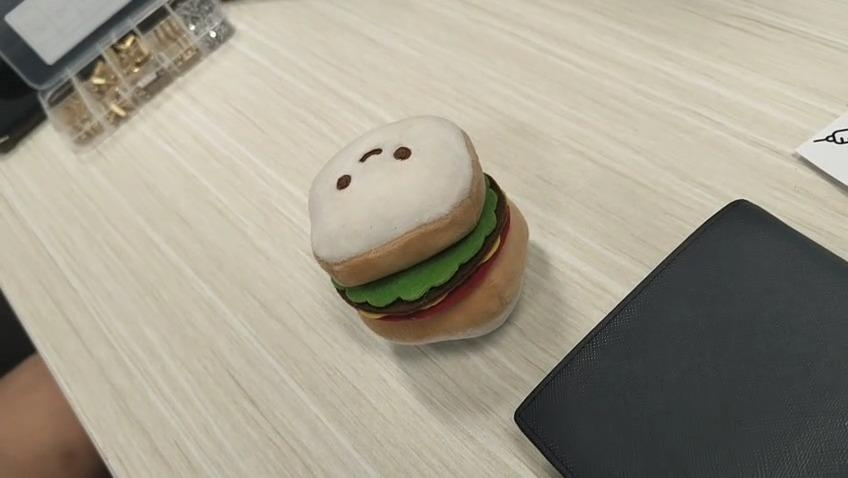objects: (304, 124, 529, 346)
